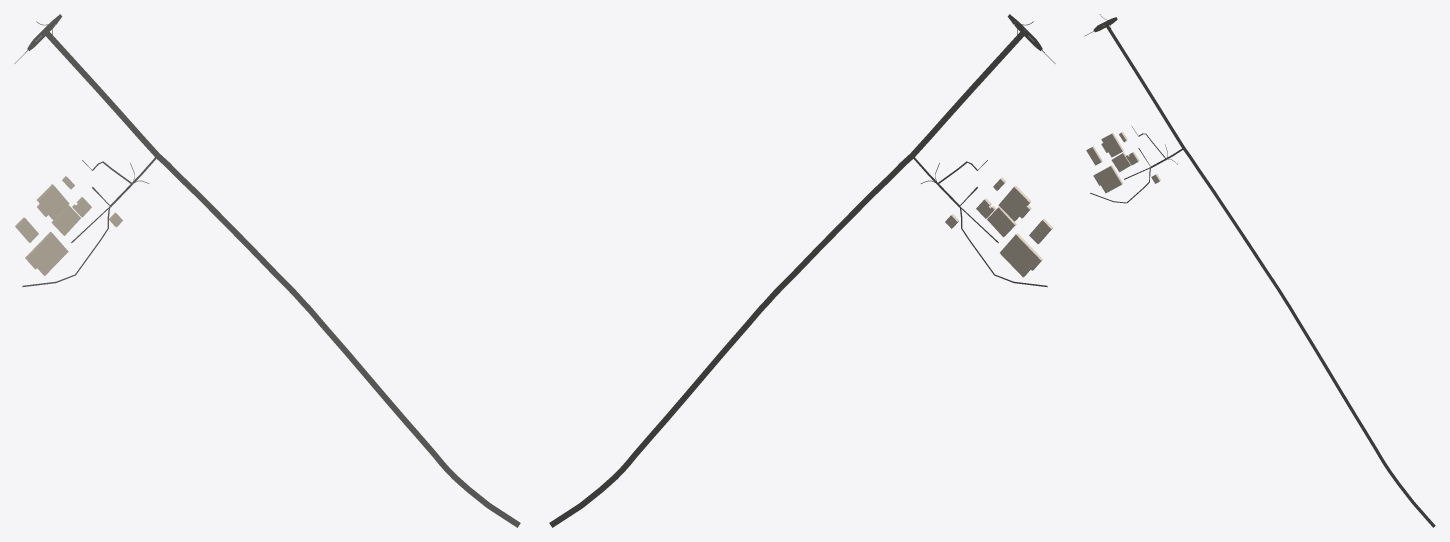
The model's file is historic-palestine-04_19_3463_3135.glb.
The picture shows the model from 3 angles, left to right: view 1: azimuth 30°, elevation 25°; view 2: azimuth 150°, elevation 25°; view 3: azimuth 330°, elevation 25°; orthographic projection. The views are drawn at different scales.
Parts seen in each view (by area): view 1: Road 25, Building_, Building_.006; view 2: Road 25, Building_, Building_.006; view 3: Road 25, Building_.
Part boxes in pixels (bbox=[...]): Road 25: bbox=[46, 31, 520, 527]; Building_: bbox=[25, 232, 68, 275]; Building_.006: bbox=[37, 184, 69, 219]; Road 25: bbox=[549, 31, 1024, 527]; Building_: bbox=[1000, 233, 1042, 277]; Building_.006: bbox=[998, 185, 1031, 221]; Road 25: bbox=[1105, 25, 1435, 527]; Building_: bbox=[1093, 165, 1123, 193].
Bounding box in the file's own units: 1171 × 1382 × 8.7.
